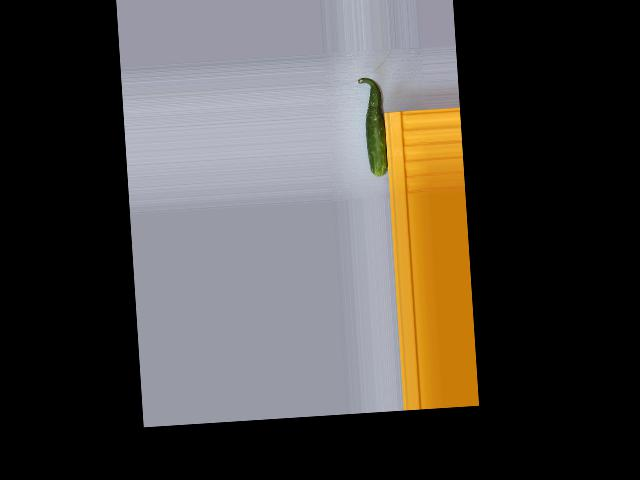cucumber: (357, 76, 388, 176)
